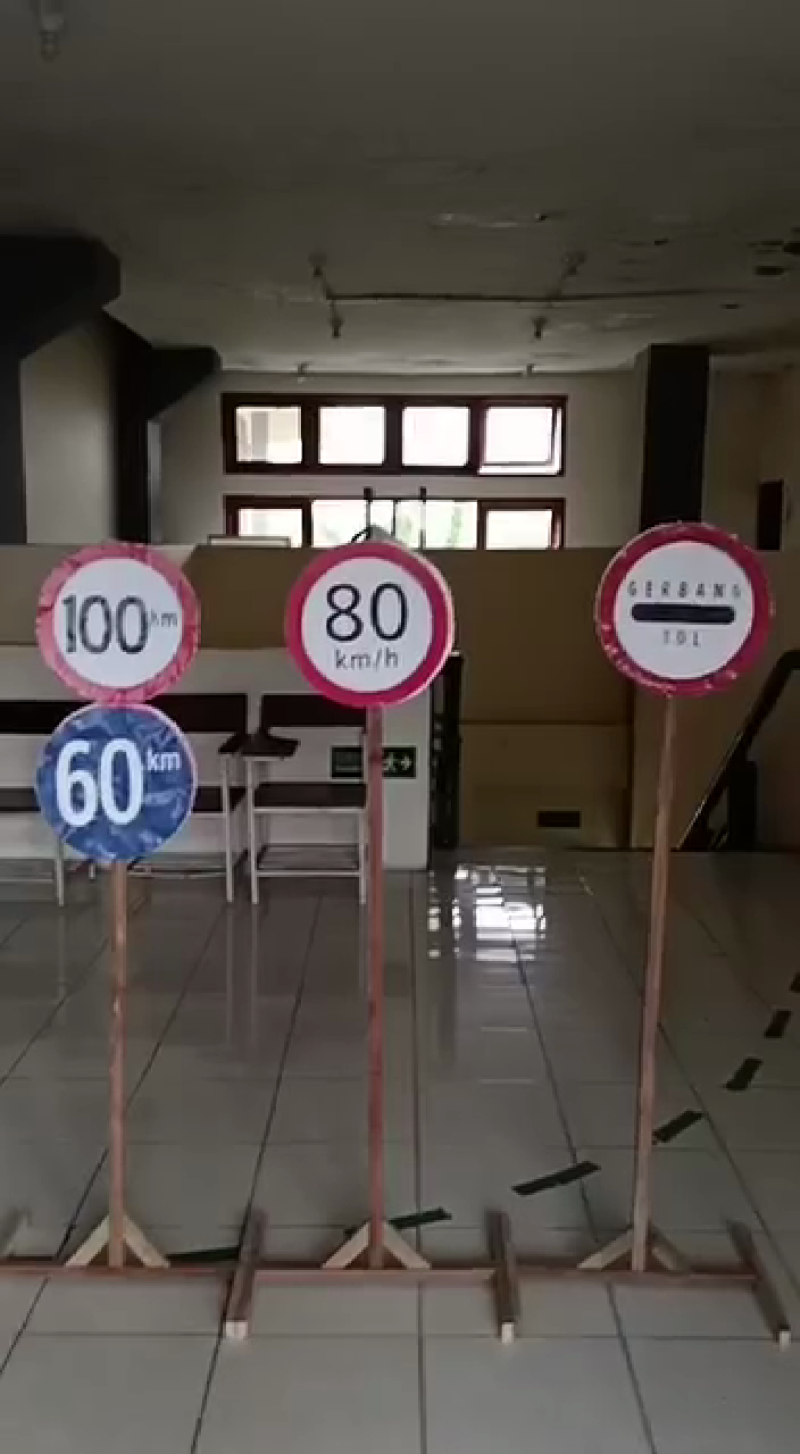batas maksimal 100kmperjam minimal 60kmperjam: (31, 535, 203, 868)
batas maksimal 80kmperjam: (281, 529, 457, 718)
gerbang tol: (583, 518, 770, 701)
